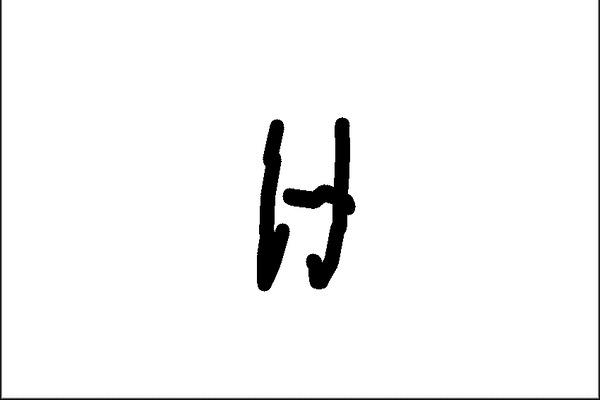H: (249, 110, 357, 299)
